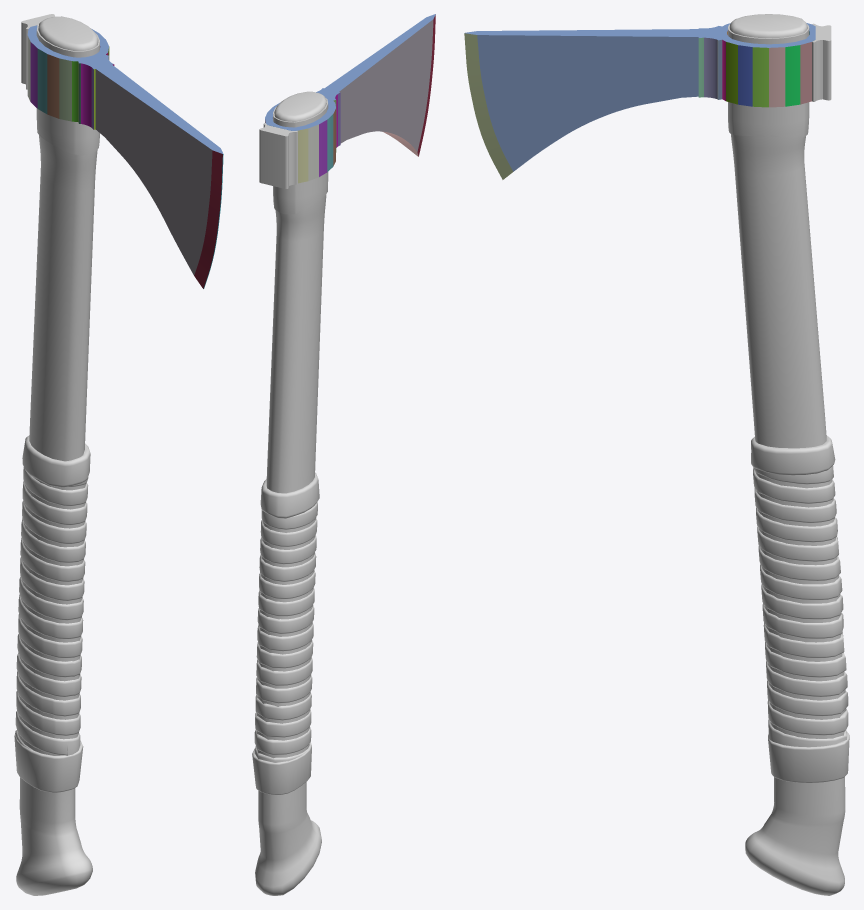
Rendered from NZ Battle Axe.fbx.
3 views of the same model, side by side, from view 1: azimuth 30°, elevation 25°; view 2: azimuth 150°, elevation 25°; view 3: azimuth 270°, elevation 25° (orthographic). The views are drawn at different scales.
Parts seen in each view (by area): view 1: Hundle, Head; view 2: Hundle, Head; view 3: Hundle, Head.
Part boxes in pixels (x1,y1,x2,y2): Hundle: (15,16,99,895); Head: (14,14,223,792); Hundle: (254,91,328,895); Head: (252,14,435,794); Hundle: (728,14,848,895); Head: (464,23,849,782).
Bounding box in the file's own units: 4.37 × 59.84 × 24.01.
